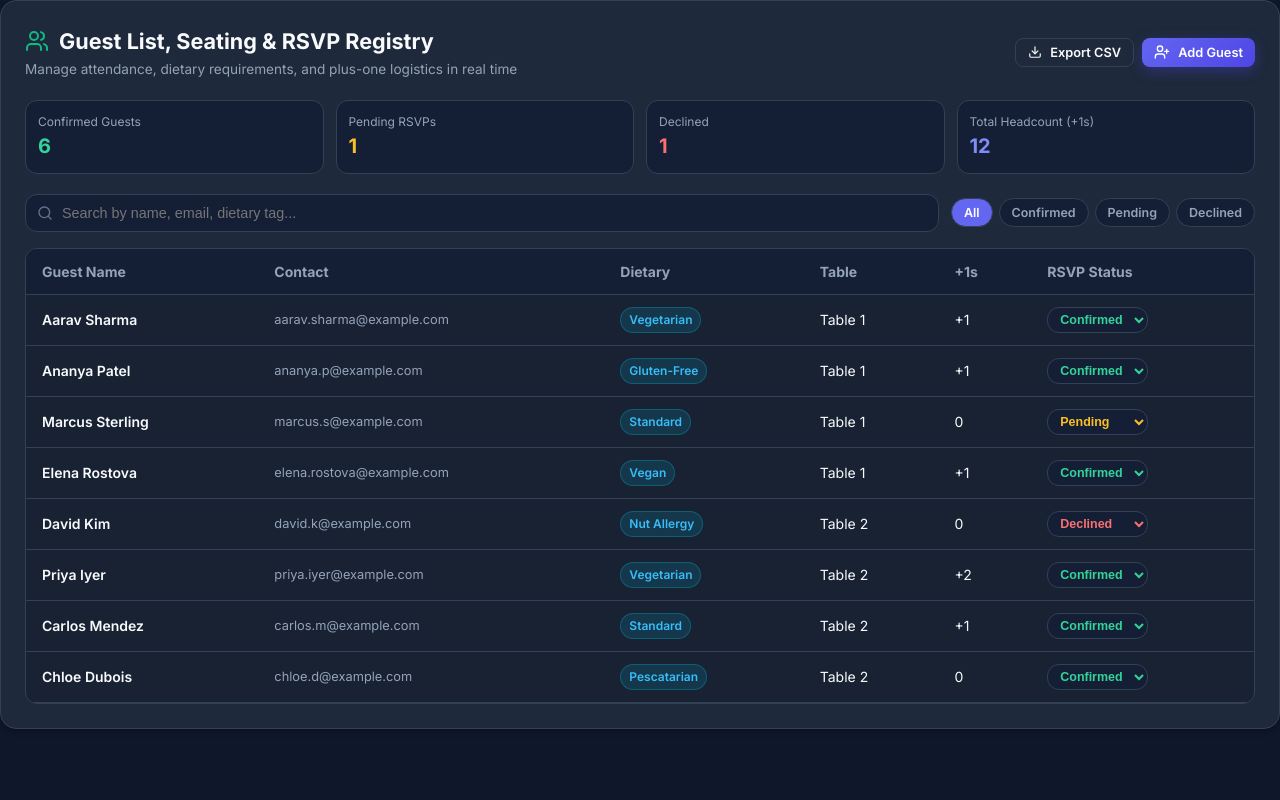
Add guest validation › rejects a one-character name
Click the button "Add Guest". click: (1199, 52)
box: [1142,38,1255,67]
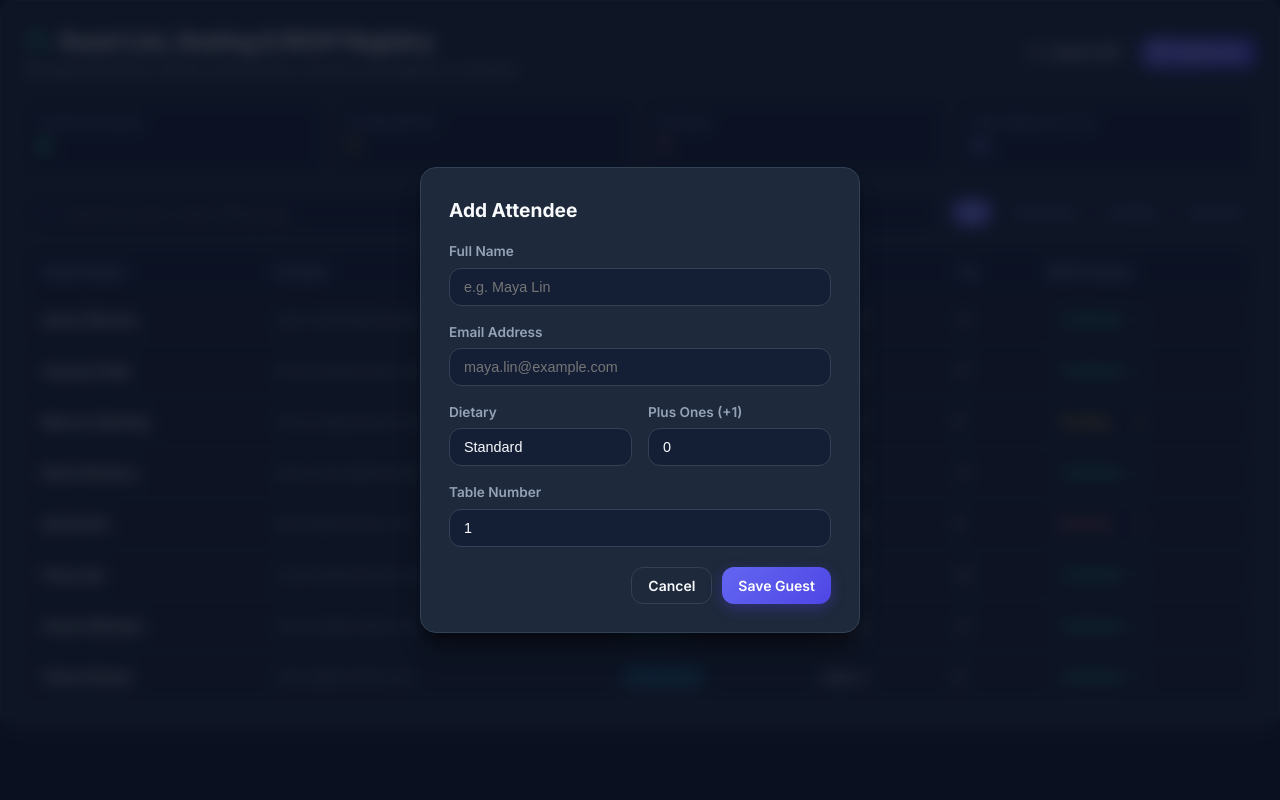
Type "A" into the field labelled "Full Name". click: (640, 286)
box: [449,268,831,306]
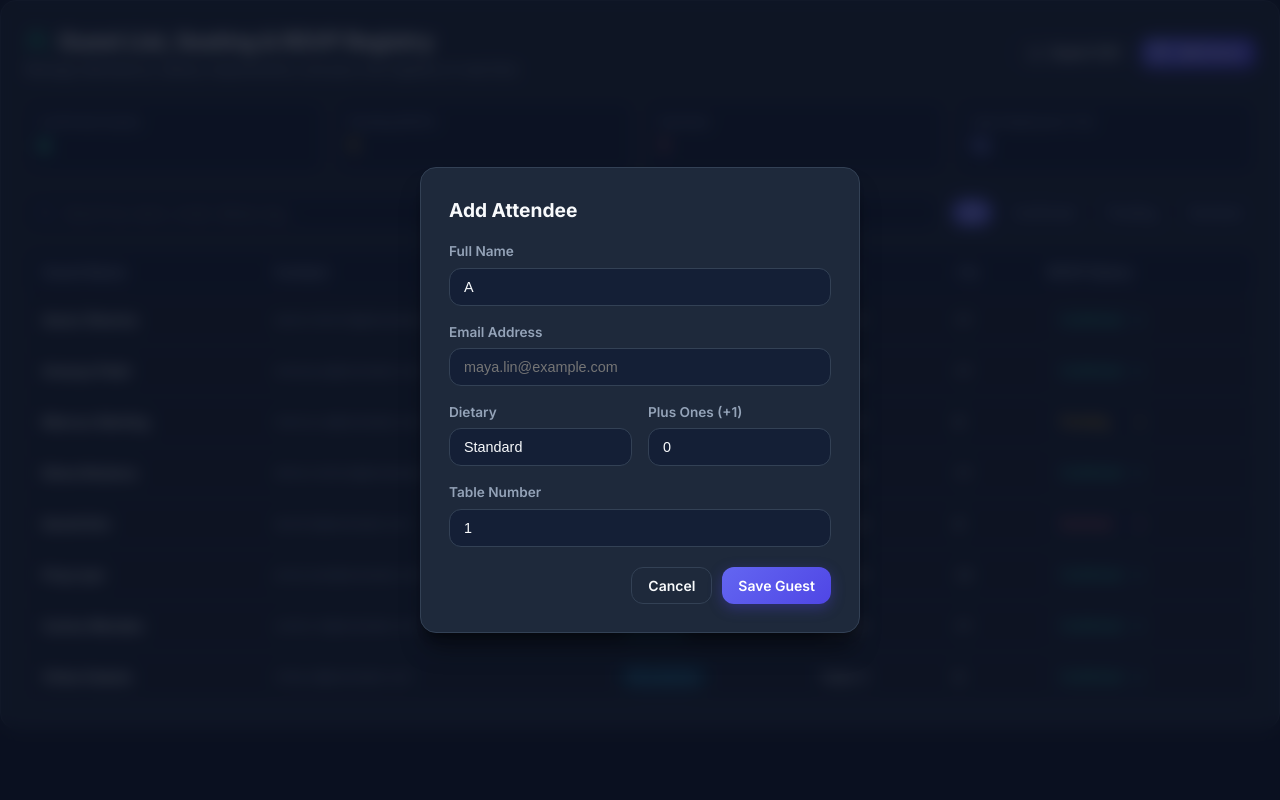
Submit the form labelled "Full Name", box [449,241,831,604]
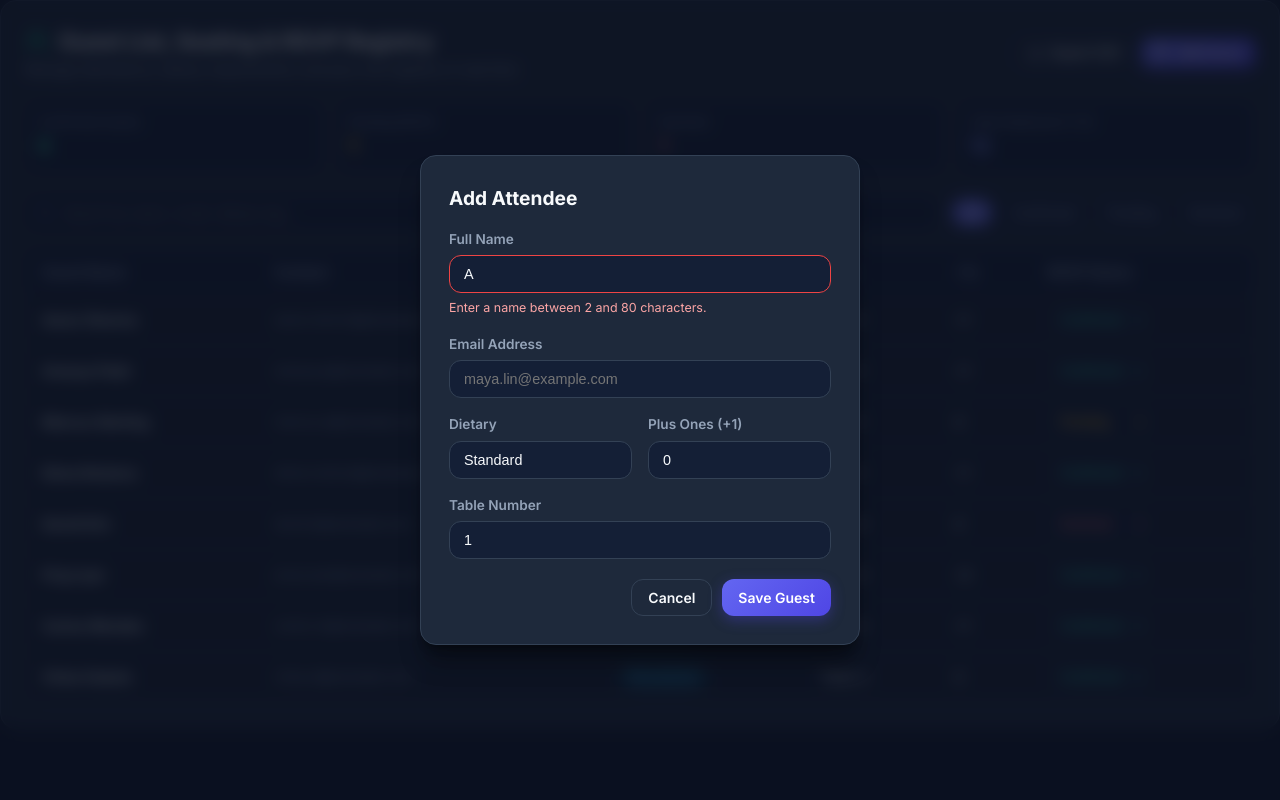
Now the message with id "g-name-error" shows "between 2 and 80 characters", box [449,300,706,315]
